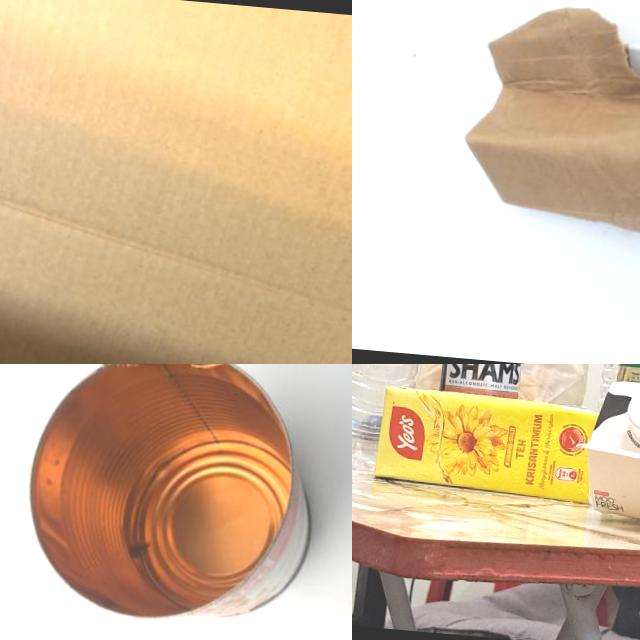caixinha: (374, 386, 600, 504), (570, 374, 640, 541)
lata: (0, 364, 330, 634)
papelão: (0, 0, 352, 364), (458, 0, 640, 253)
tampa plástica: (625, 382, 640, 447)
